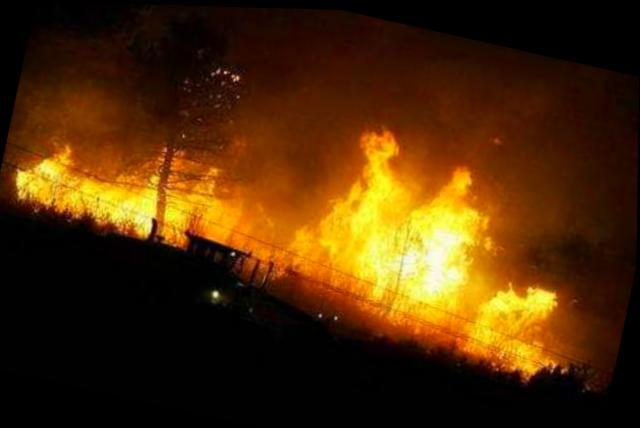fire: (0, 45, 604, 382)
